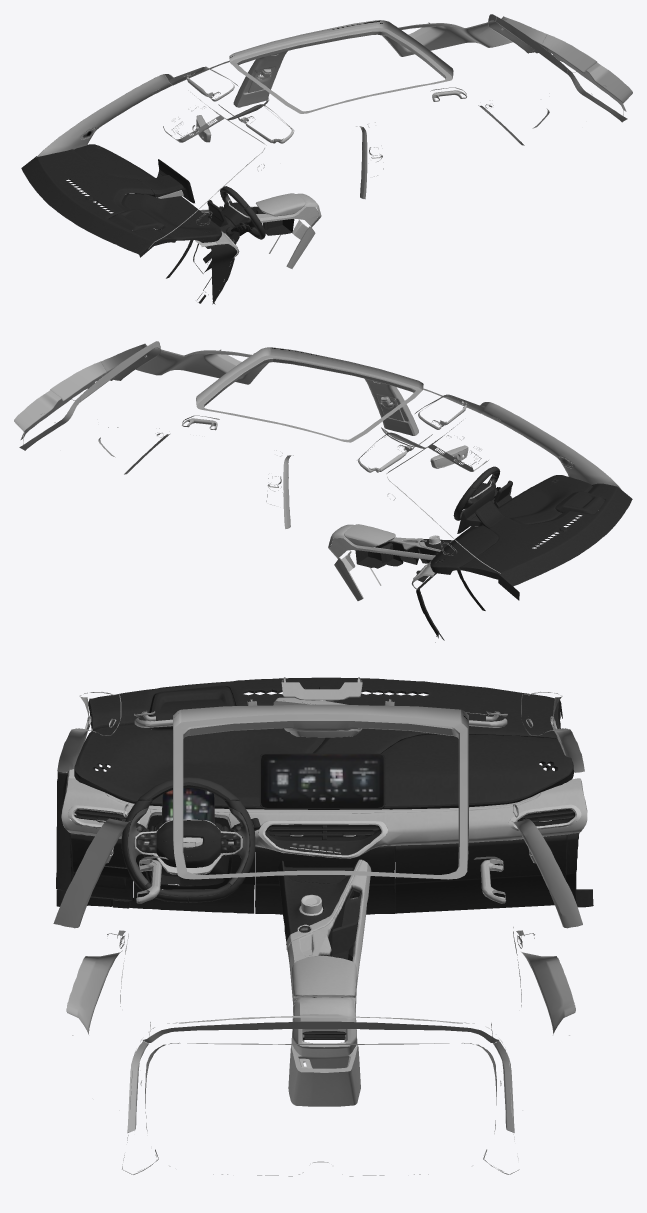
Rendered from jiashizuoweishangD.glb.
3 views of the same model, one above another, from view 1: azimuth 30°, elevation 25°; view 2: azimuth 150°, elevation 25°; view 3: azimuth 270°, elevation 25° (orthographic). The views are drawn at different scales.
Parts seen in each view (by area): view 1: jinshujiashiweishang; view 2: jinshujiashiweishang; view 3: jinshujiashiweishang.
Part boxes in pixels (x1,y1,x2,y2): jinshujiashiweishang: (21, 14, 632, 304); jinshujiashiweishang: (14, 341, 632, 642); jinshujiashiweishang: (53, 677, 593, 1176).
Bounding box in the file's own units: 326 × 110 × 141.
Materials: 1 (1 with a texture image).
